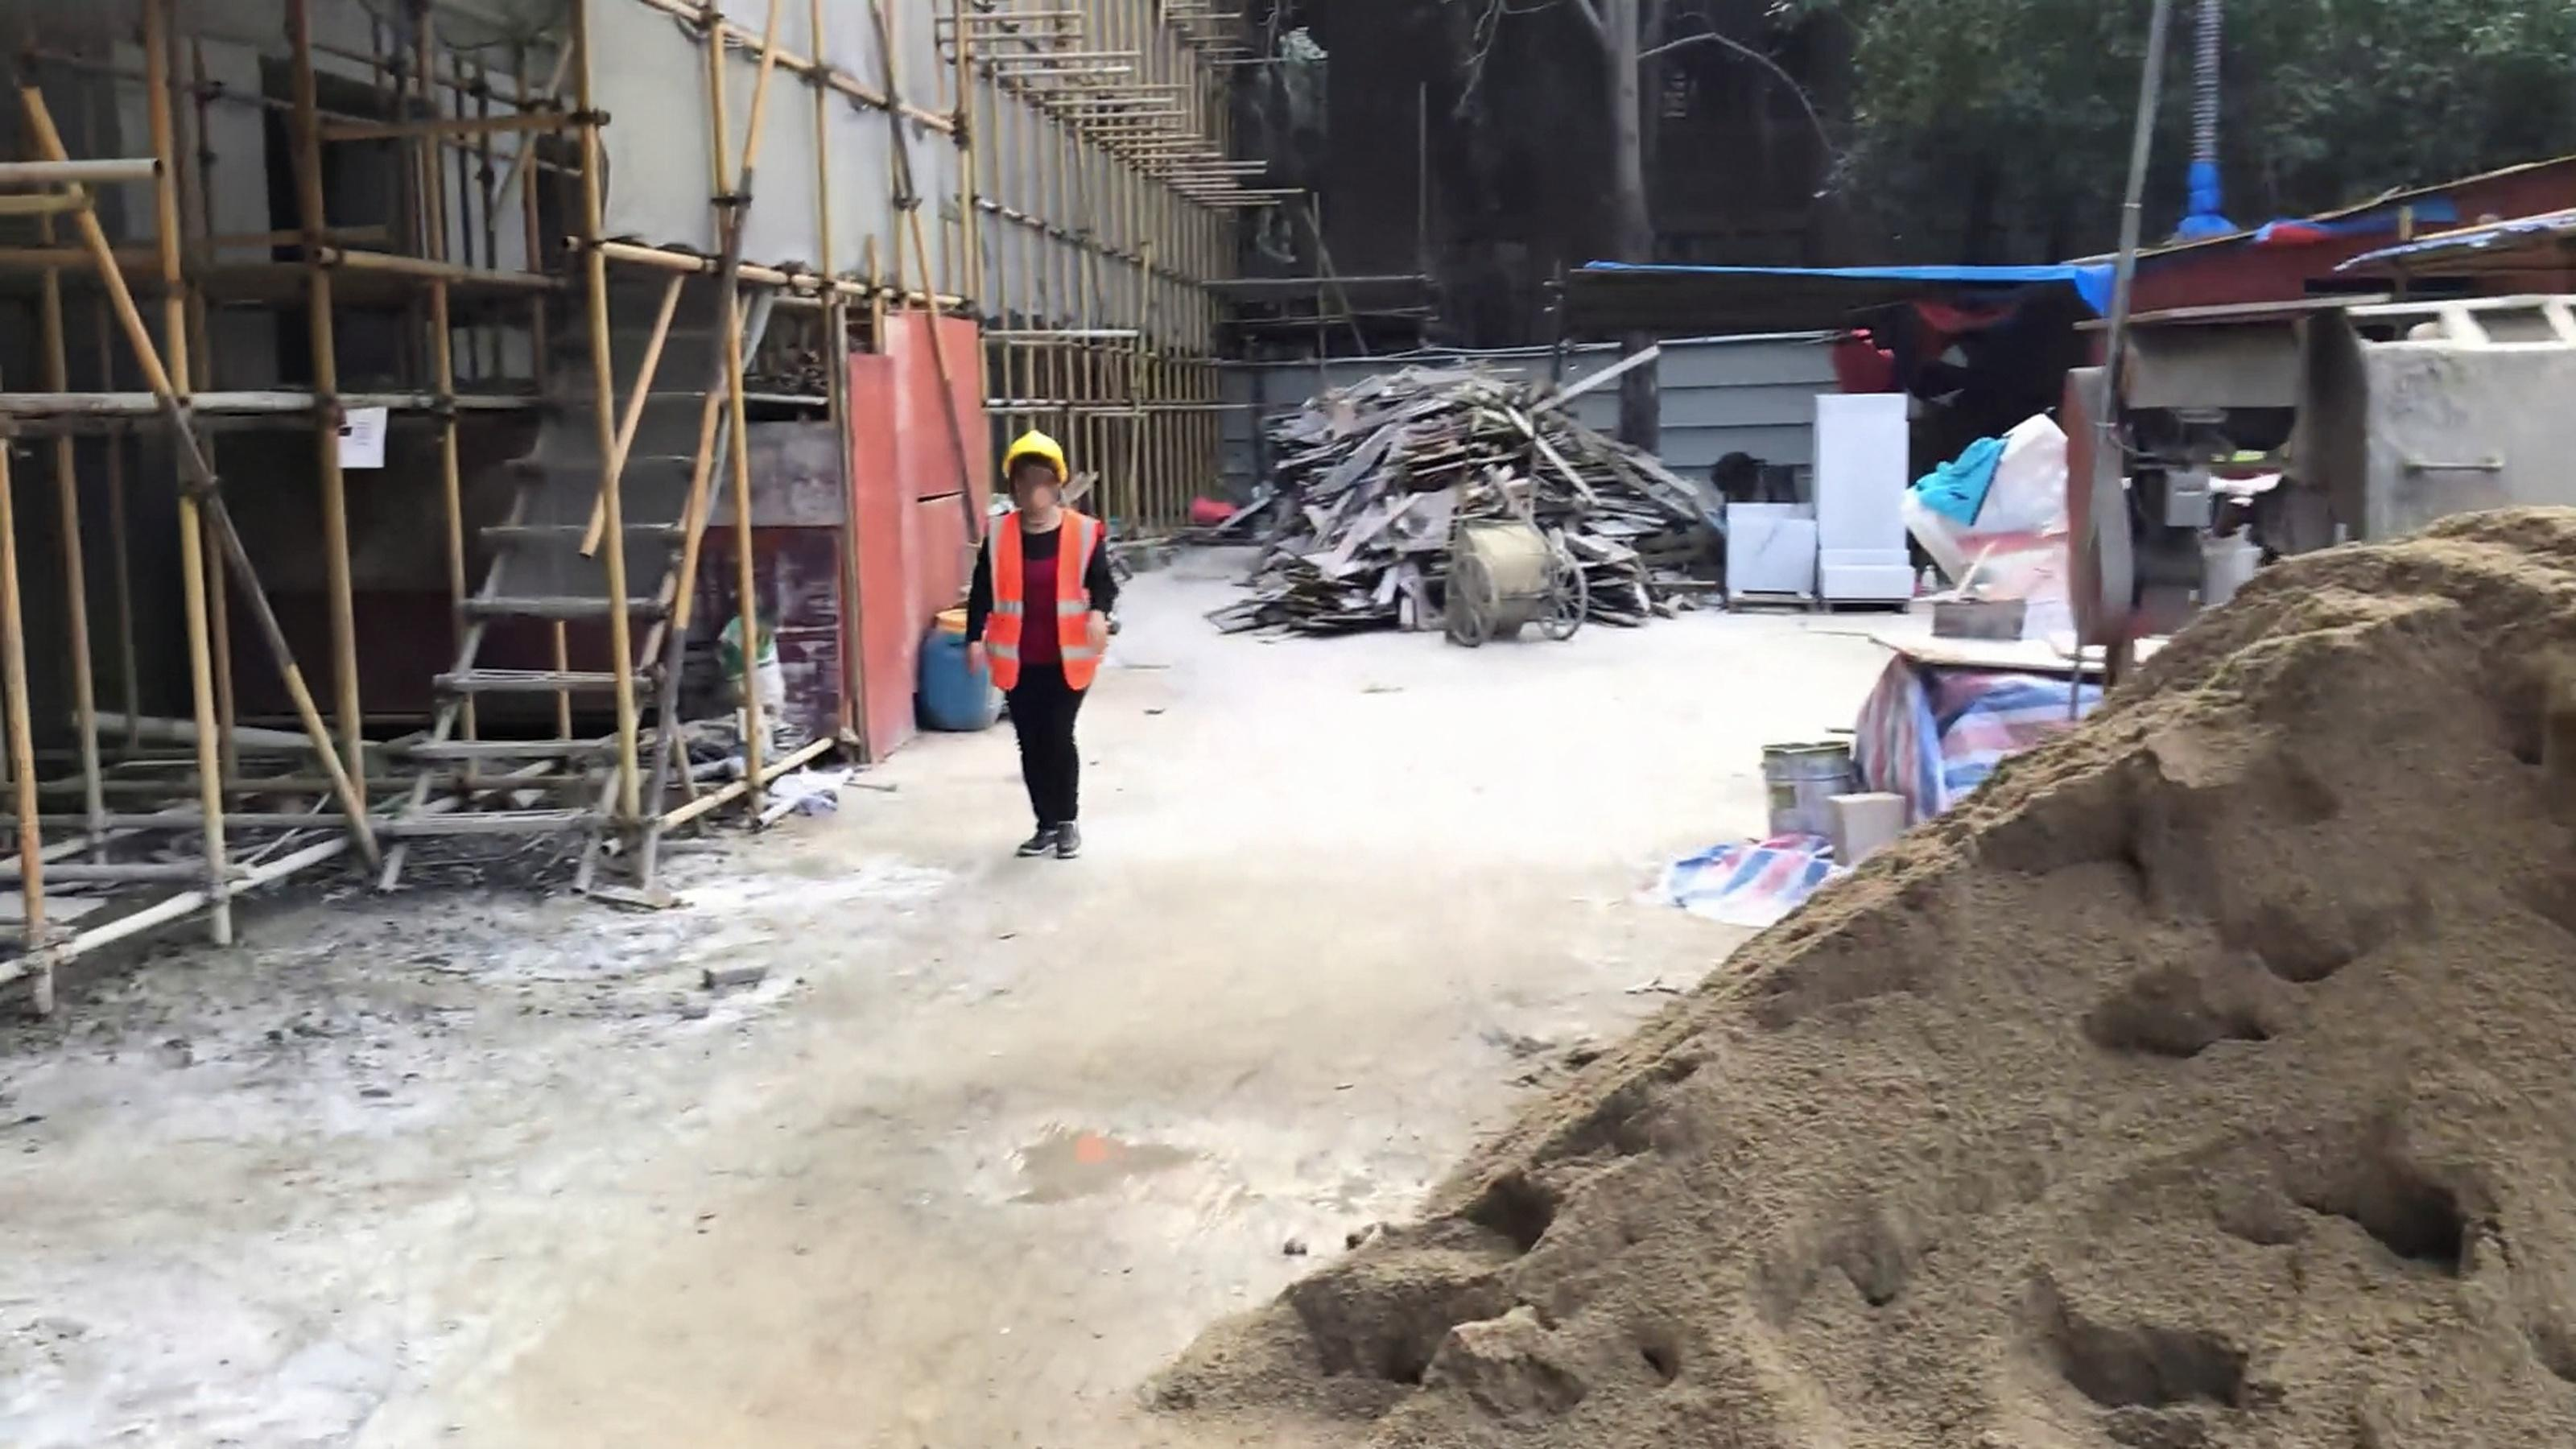brick: (1721, 388, 1918, 609)
handcart: (1430, 378, 1584, 658)
helmet: (983, 424, 1076, 482)
person: (960, 430, 1121, 866)
vest: (976, 505, 1113, 709)
